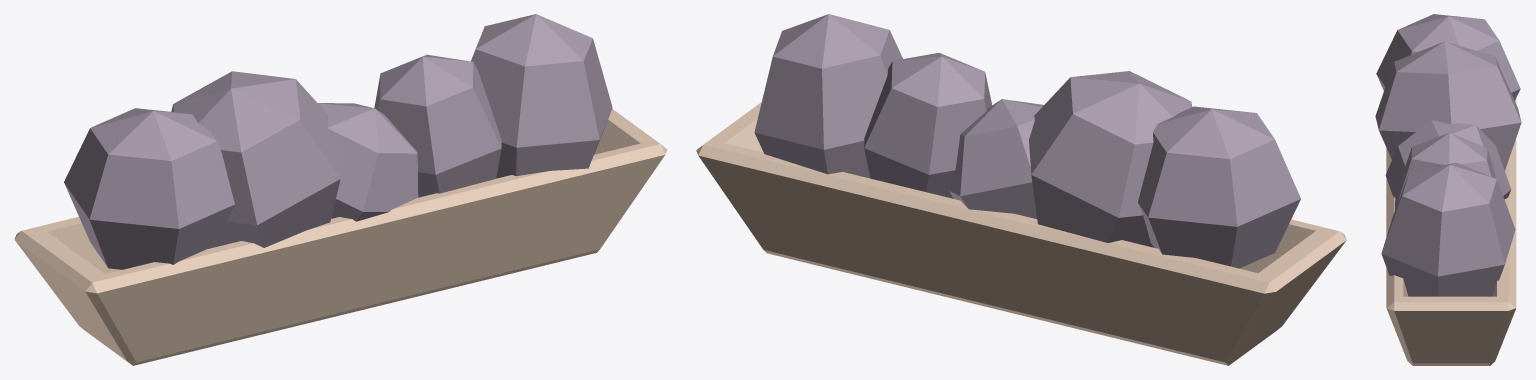
File: LongPlantTextured.fbx
3 renders of one model, left to right at view 1: azimuth 30°, elevation 25°; view 2: azimuth 150°, elevation 25°; view 3: azimuth 270°, elevation 25°, orthographic. The views are drawn at different scales.
Parts seen in each view (by area): view 1: pSphere3; view 2: pSphere3; view 3: pSphere3.
Part boxes in pixels (bbox=[...]): pSphere3: bbox=[14, 14, 667, 365]; pSphere3: bbox=[696, 14, 1346, 365]; pSphere3: bbox=[1375, 14, 1521, 365].
Bounding box in the file's own units: 22.22 × 8.53 × 5.99.
